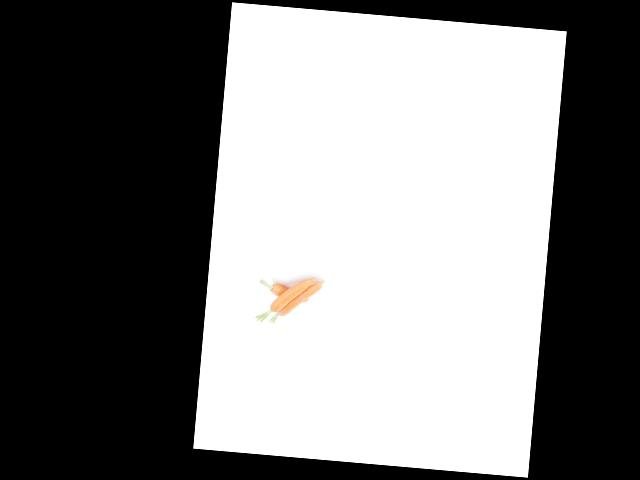carrot: (260, 281, 315, 305)
